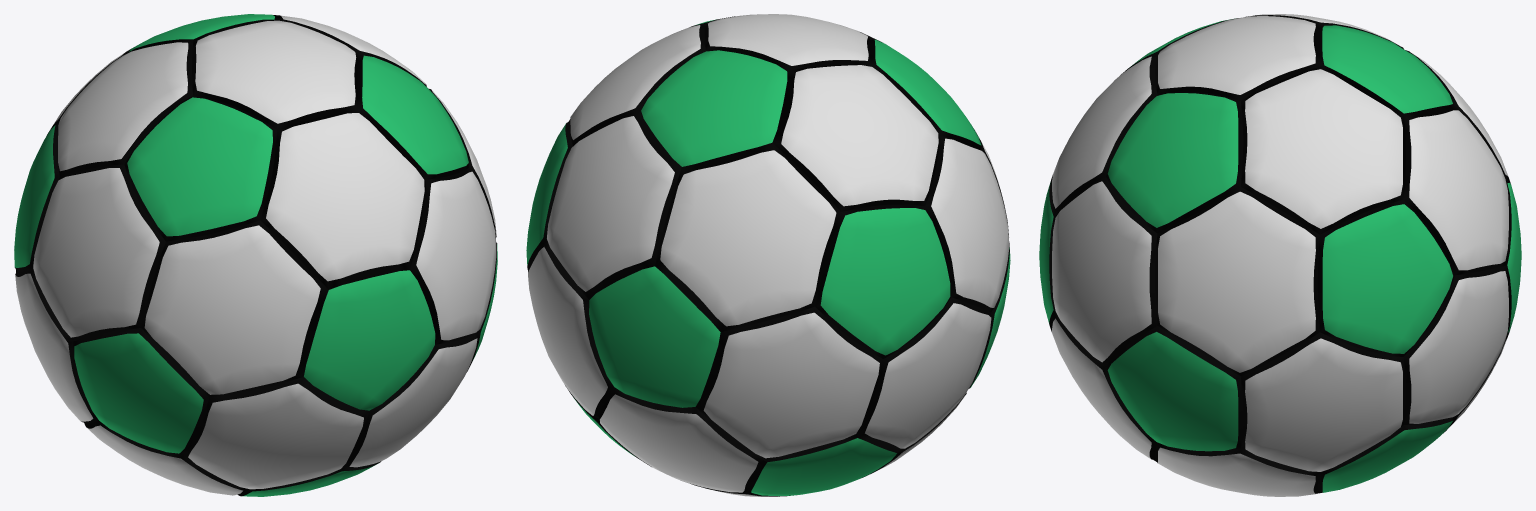
File: vertexcolor_rgb3.glb
3 views of the same model, side by side, from view 1: azimuth 30°, elevation 25°; view 2: azimuth 150°, elevation 25°; view 3: azimuth 270°, elevation 25° (orthographic).
Parts seen in each view (by area): view 1: soccer_ball; view 2: soccer_ball; view 3: soccer_ball.
Part boxes in pixels (bbox=[...]): soccer_ball: bbox=[14, 14, 497, 496]; soccer_ball: bbox=[526, 14, 1010, 496]; soccer_ball: bbox=[1039, 14, 1521, 496].
Bounding box in the file's own units: 0.9998 × 0.9999 × 1.
